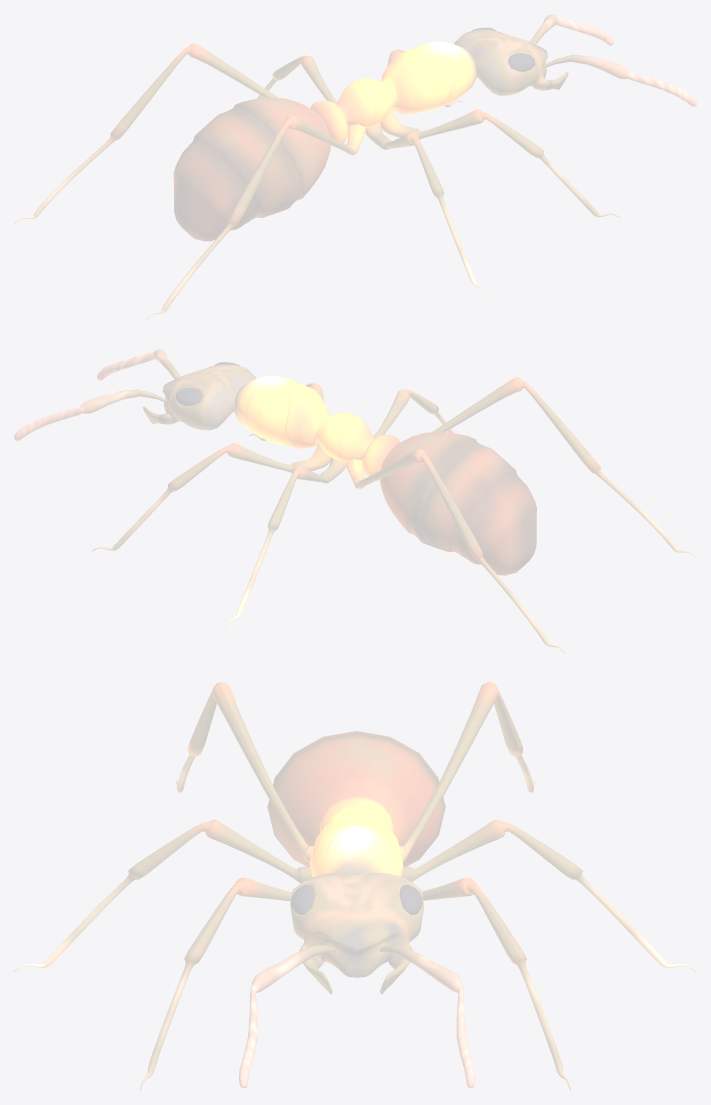
File: Hormiga.glb
3 renders of one model, top to bottom at view 1: azimuth 30°, elevation 25°; view 2: azimuth 150°, elevation 25°; view 3: azimuth 270°, elevation 25°, orthographic. The views are drawn at different scales.
Parts seen in each view (by area): view 1: Sphere.002; view 2: Sphere.002; view 3: Sphere.002.
Boxes of the visible parts, left/top/right/bottom form: Sphere.002: left=14, top=14, right=696, bottom=320; Sphere.002: left=14, top=349, right=696, bottom=653; Sphere.002: left=14, top=682, right=696, bottom=1090.
Size of the model in its own units: 2.3 by 0.5861 by 1.73.
Materials: 1 (1 with a texture image).
